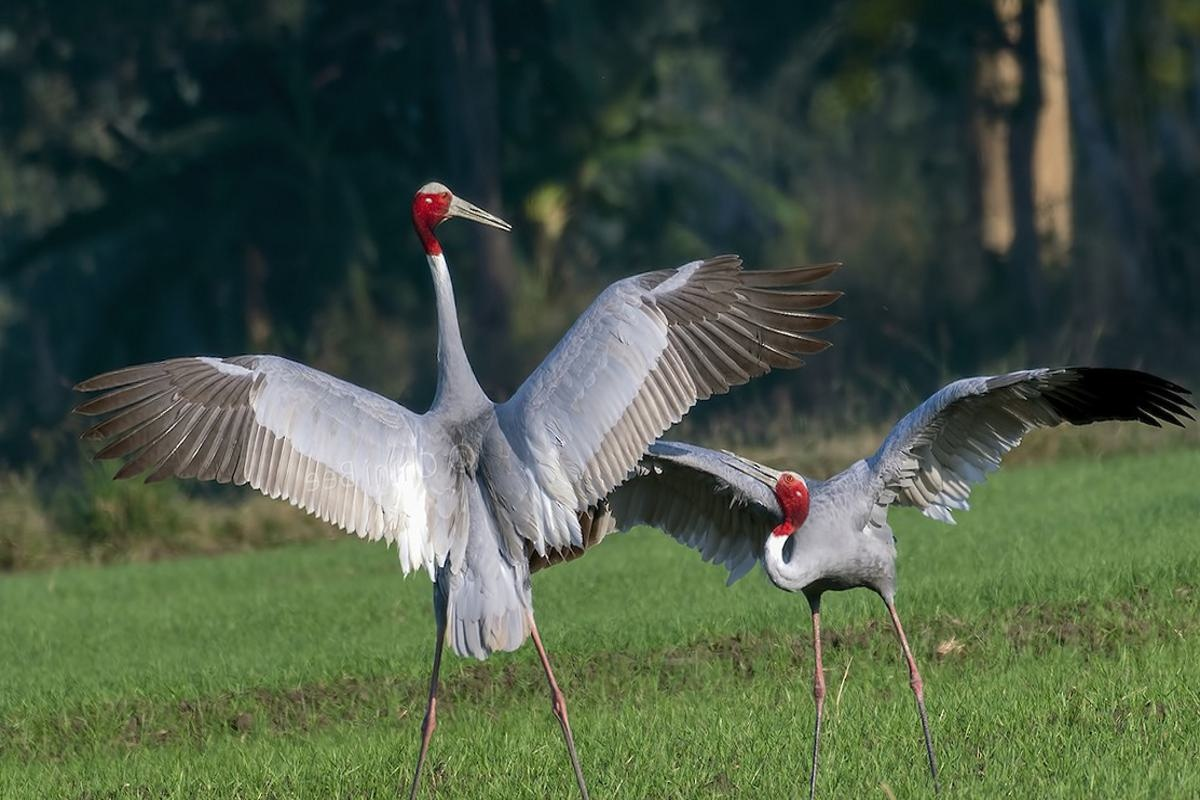crane: (91, 157, 683, 800), (610, 332, 1200, 800)
